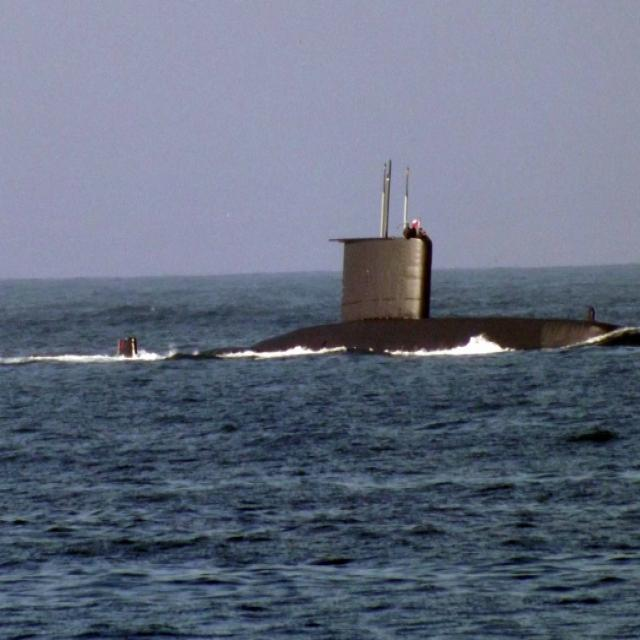submarine: (118, 148, 640, 355)
